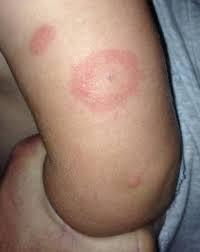Tick: (80, 50, 141, 109), (20, 19, 57, 64)
